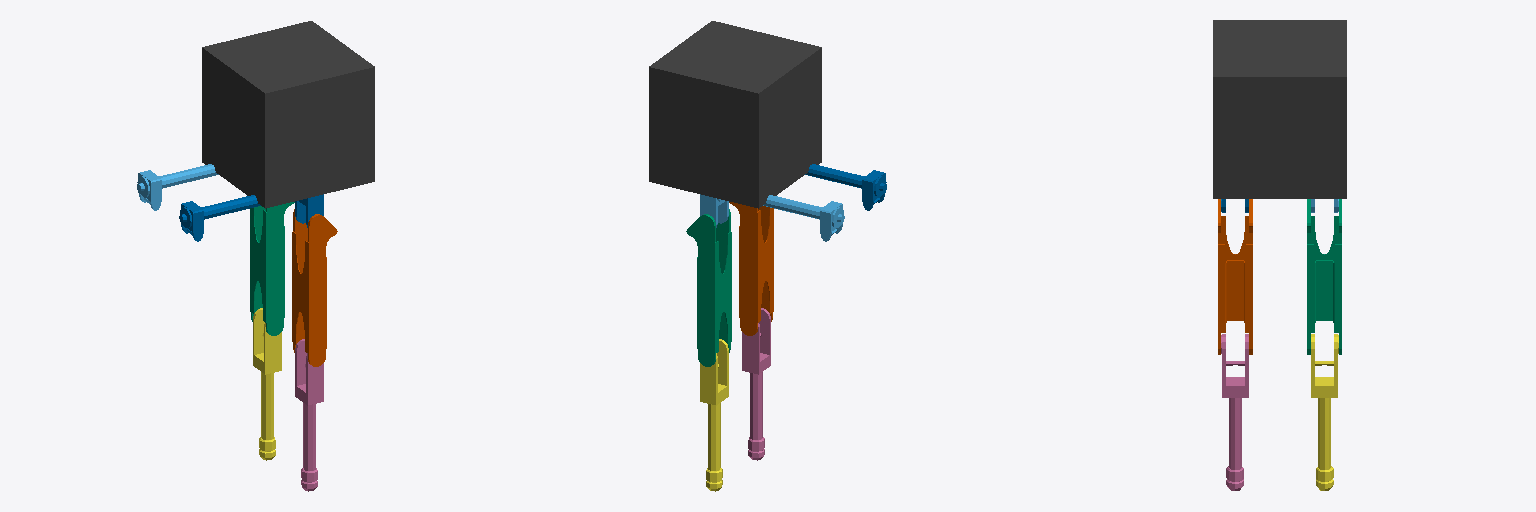
The robot description file, URDF, robot "biped":
<?xml version="1.0"?>

<robot name="biped">
    <link name="base">
	    <visual>
	      <geometry>
	        <box size="0.30 0.30 0.30"/>
	      </geometry>
	      <material name="gray">
	        <color rgba="0.3 0.3 0.3 1.0"/>
	      </material>
	    </visual>        
    </link>
    
    <!-- LEFT LEG -->
    <link name="L_hipassembly">
	    <visual>
	      <origin rpy="0.0 0.0 0.0" xyz="0.0 0.0 0.0"/>
	      <geometry>
          
	        <mesh filename="../meshes/leg/hipassembly.stl" scale="1 1 1"/>
	      </geometry>
	      <material name="white"/>
	    </visual>        
    </link>
    <link name="L_upperleg">
	    <visual>
	      <origin rpy="0.0 0.0 0.0" xyz="0.0 0.0 0.0"/>
	      <geometry>
	        <mesh filename="../meshes/leg/upperleg.stl" scale="1 1 1"/>
	      </geometry>
	      <material name="blue"/>
	    </visual>
    </link>
    <link name="L_lowerleg">
	    <visual>
	      <geometry>
	        <mesh filename="../meshes/leg/lowerleg.stl" scale="1 1 1"/>
	      </geometry>
	      <material name="blue"/>
	    </visual>        
    </link>
    
    <joint name="L_haa_joint" type="revolute">
        <origin xyz="0.00000 0.1 -0.15000" rpy="2.0344439357957036 1.5707962290814481 -1.1071487177940917"/>
        <parent link="base"/>
        <child  link="L_hipassembly"/>
        <limit effort="200" lower="-1.6" upper="1.6" velocity="1.0"/>
        <axis xyz="0 0 1"/>
    </joint>
    <joint name="L_hfe_joint" type="revolute">
        <origin xyz="0.08000 0.00000 0.00000" rpy="1.5707963705062866 -0.0 0.0"/>
        <parent link="L_hipassembly"/>
        <child  link="L_upperleg"/>
        <limit effort="200" lower="-1.6" upper="1.6" velocity="1.0"/>
        <axis xyz="0 0 1"/>
    </joint>
    <joint name="L_kfe_joint" type="revolute">
        <origin xyz="0.35000 0.00000 0.00000" rpy="0.0 0.0 0.0"/>
        <parent link="L_upperleg"/>
        <child  link="L_lowerleg"/>
        <limit effort="200" lower="-1.6" upper="1.6" velocity="1.0"/>
        <axis xyz="0 0 1"/>
    </joint>
    
    
    
    <!-- RIGHT LEG -->
    <link name="R_hipassembly">
      <visual>
        <origin rpy="0.0 0.0 0.0" xyz="0.0 0.0 0.0"/>
        <geometry>
          <mesh filename="../meshes/leg/hipassembly.stl" scale="1 1 1"/>
        </geometry>
        <material name="white"/>
      </visual>        
    </link>
    <link name="R_upperleg">
      <visual>
        <origin rpy="0.0 0.0 0.0" xyz="0.0 0.0 0.0"/>
        <geometry>
          <mesh filename="../meshes/leg/upperleg.stl" scale="1 1 1"/>
        </geometry>
        <material name="blue"/>
      </visual>
    </link>
    <link name="R_lowerleg">
      <visual>
        <geometry>
          <mesh filename="../meshes/leg/lowerleg.stl" scale="1 1 1"/>
        </geometry>
        <material name="blue"/>
      </visual>        
    </link>
    
    <joint name="R_haa_joint" type="revolute">
        <origin xyz="0.00000 -0.1 -0.15000" rpy="2.0344439357957036 1.5707962290814481 -1.1071487177940917"/>
        <parent link="base"/>
        <child  link="R_hipassembly"/>
        <limit effort="200" lower="-1.6" upper="1.6" velocity="1.0"/>
        <axis xyz="0 0 1"/>
    </joint>
    <joint name="R_hfe_joint" type="revolute">
        <origin xyz="0.08000 0.00000 0.00000" rpy="1.5707963705062866 -0.0 0.0"/>
        <parent link="R_hipassembly"/>
        <child  link="R_upperleg"/>
        <limit effort="200" lower="-1.6" upper="1.6" velocity="1.0"/>
        <axis xyz="0 0 1"/>
    </joint>
    <joint name="R_kfe_joint" type="revolute">
        <origin xyz="0.35000 0.00000 0.00000" rpy="0.0 0.0 0.0"/>
        <parent link="R_upperleg"/>
        <child  link="R_lowerleg"/>
        <limit effort="200" lower="-1.6" upper="1.6" velocity="1.0"/>
        <axis xyz="0 0 1"/>
    </joint>
  
</robot>

--- Render facts (derived) ---
The picture shows the robot from 3 angles, left to right: view 1: azimuth 30°, elevation 25°; view 2: azimuth 150°, elevation 25°; view 3: azimuth 270°, elevation 25°; orthographic projection.
Robot: biped — 7 links, 6 joints (6 revolute); root link base; default pose: all joints at 0.
Links seen in each view (by area): view 1: base, R_upperleg, L_upperleg, L_lowerleg, R_lowerleg, R_hipassembly, L_hipassembly; view 2: base, L_upperleg, R_upperleg, L_lowerleg, R_lowerleg, L_hipassembly, R_hipassembly; view 3: base, L_upperleg, R_upperleg, L_lowerleg, R_lowerleg.
Link boxes in pixels (x1,y1,x2,y2): base: (202,21,374,208); R_upperleg: (292,209,337,366); L_upperleg: (250,202,294,335); L_lowerleg: (253,308,281,460); R_lowerleg: (295,339,323,491); R_hipassembly: (179,194,323,241); L_hipassembly: (137,164,218,210); base: (649,21,821,208); L_upperleg: (686,209,731,366); R_upperleg: (729,202,773,335); L_lowerleg: (700,339,728,491); R_lowerleg: (742,308,770,460); L_hipassembly: (700,194,844,241); R_hipassembly: (805,164,886,210); base: (1213,20,1346,198); L_upperleg: (1307,199,1341,354); R_upperleg: (1218,199,1252,354); L_lowerleg: (1311,334,1338,490); R_lowerleg: (1221,334,1248,490).
Bounding box of the posed robot: 0.5008 × 0.3 × 1.09 m (x, y, z).
6 mesh visuals loaded from 3 distinct referenced files (3 binary STL).